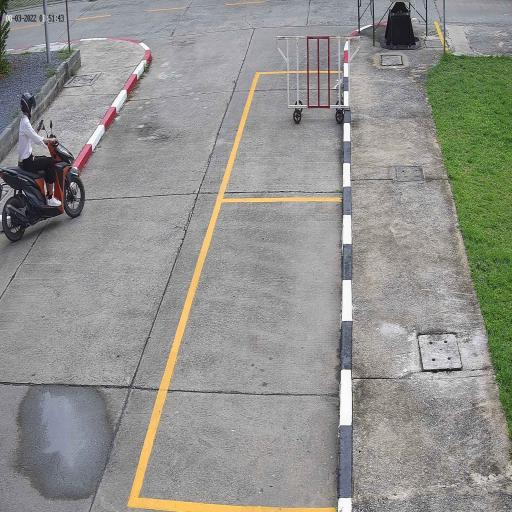motorcycle: (1, 138, 86, 242)
